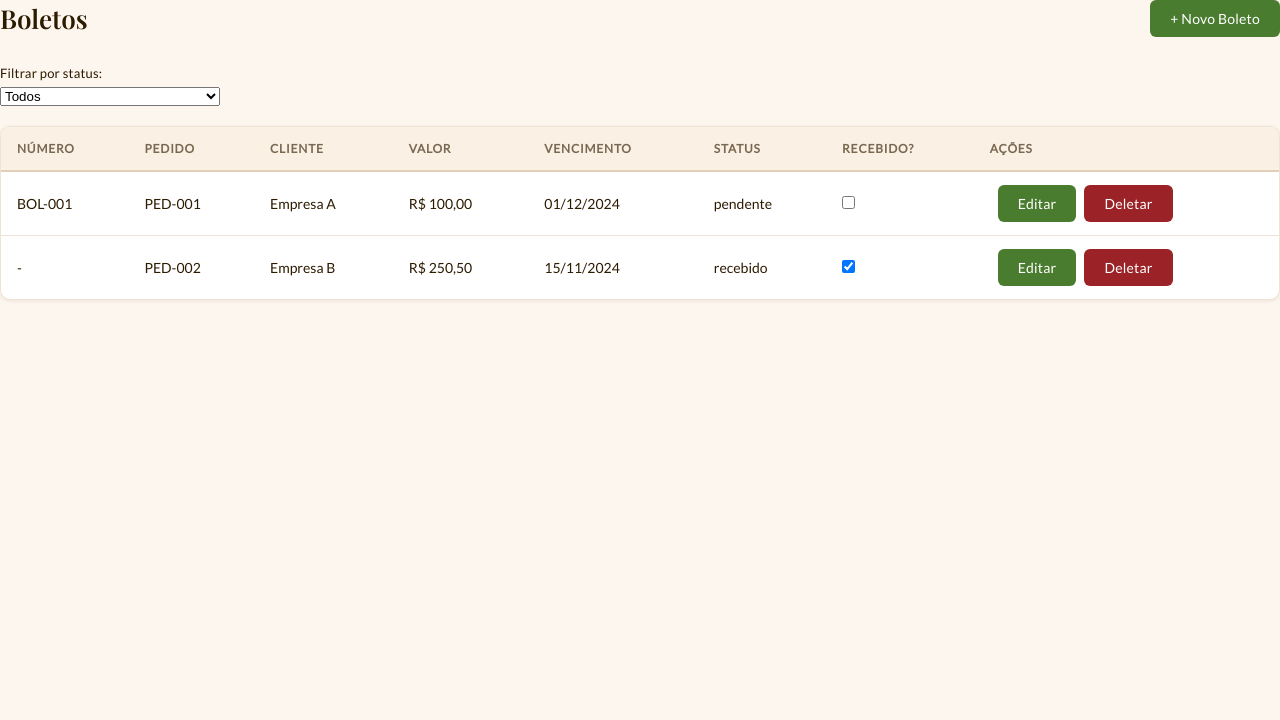
Test: Boletos › abre modal de edição com dados do boleto
Expected: the text "BOL-001" is shown, 1,171 -> 128,236
Click the button "Editar" in the row of "BOL-001" at (1037, 204), box 998,185 -> 1076,222
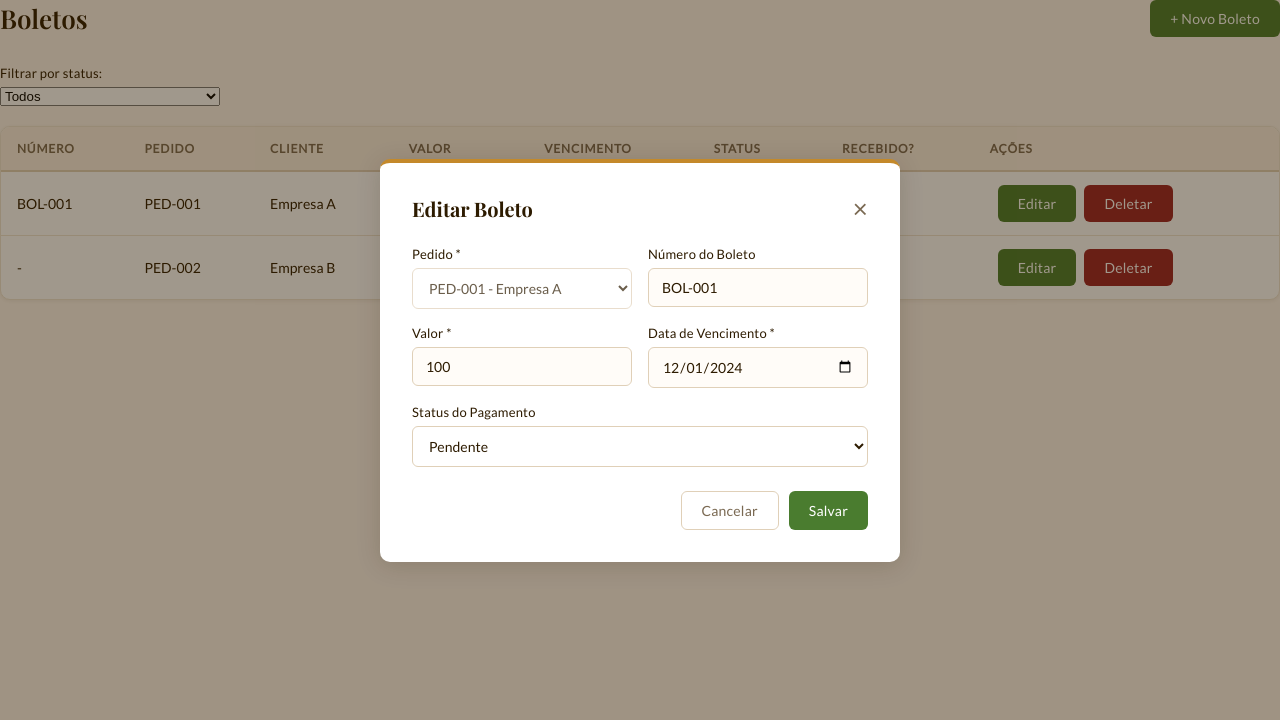
Result: the heading "Editar Boleto" is shown at 412,194 -> 533,222
Result: the field showing "BOL-001" is shown at 648,268 -> 868,306
